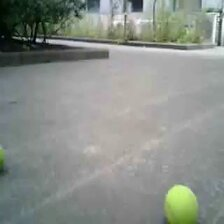tennis: (162, 184, 199, 224)
